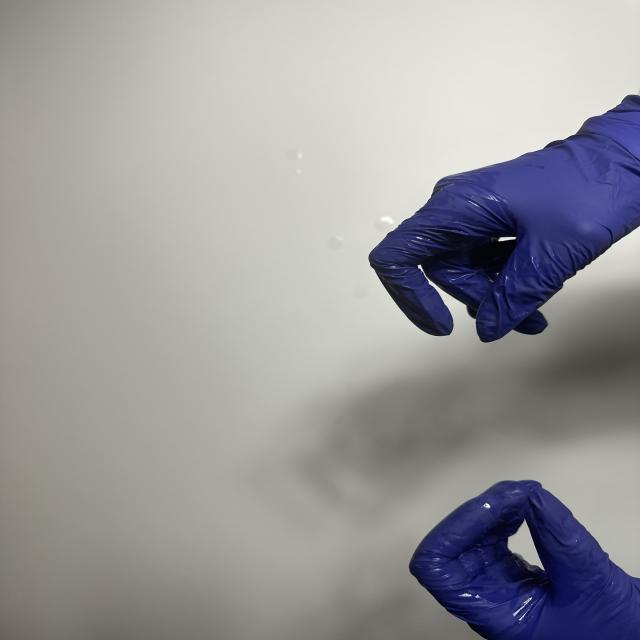gloves_contaminated: (369, 95, 640, 342), (410, 481, 640, 640)
